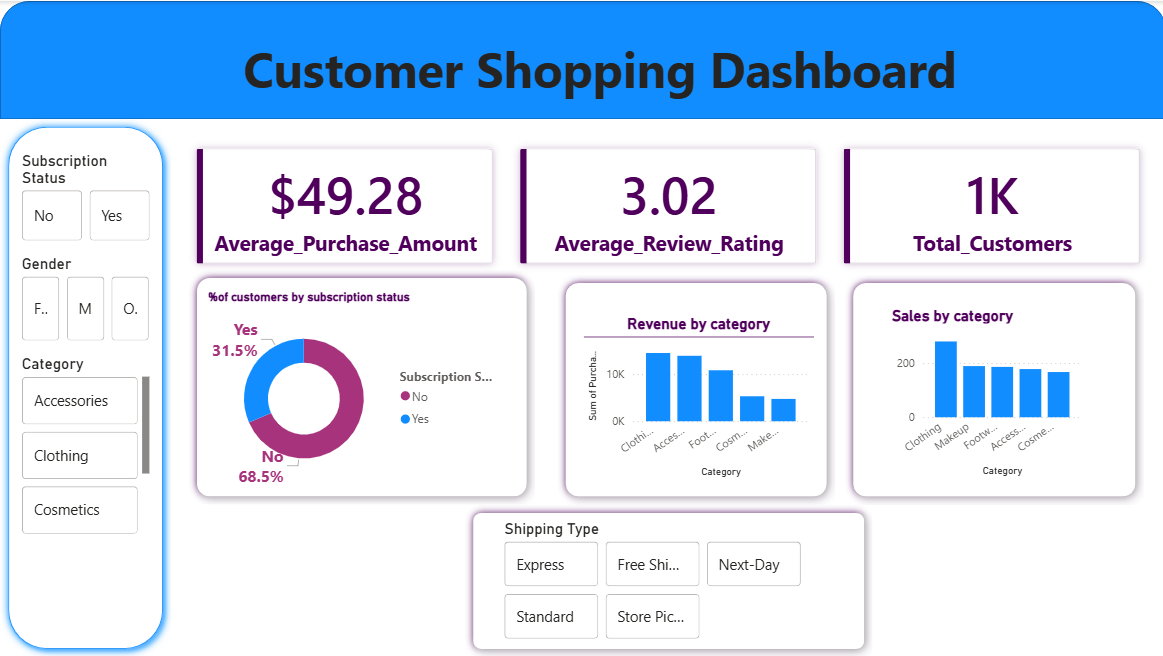

The page's visual inventory and layout, read from the dashboard file:
{"tool":"powerbi","page":{"name":"Page 1","canvas":[1280,720],"ordinal":0},"visuals":[{"type":"cardVisual","fields":{"Data":["customer_shopping_db customer_shopping.Average_Purchase_Amount","customer_shopping_db customer_shopping.Average_Review_Rating","customer_shopping_db customer_shopping.Total_Customers"]},"box":[188.6,134.1,1091.7,182.7],"z":0},{"type":"shape","box":[0,0,1280.3,129.7],"z":1000},{"type":"textbox","box":[262.2,32.4,993,119.3],"z":2000},{"type":"shape","box":[207.2,295,380.1,258],"z":3000},{"type":"donutChart","title":"%of customers by subscription status","fields":{"Category":["customer_shopping_db customer_shopping.Subscription Status"],"Y":["CountNonNull(customer_shopping_db customer_shopping.Customer ID)"]},"box":[223.7,317,325.2,225],"z":4000},{"type":"shape","box":[612,300.5,304.6,252.5],"z":5000},{"type":"shape","box":[927.6,300.5,328,252.5],"z":6000},{"type":"clusteredColumnChart","title":"Revenue by category","fields":{"Y":["Sum(customer_shopping_db customer_shopping.Purchase Amount (USD))"],"Category":["customer_shopping_db customer_shopping.Category"]},"box":[640.8,344.4,252.5,182.5],"z":7000},{"type":"clusteredColumnChart","title":"Sales by category","fields":{"Y":["CountNonNull(customer_shopping_db customer_shopping.Customer ID)"],"Category":["customer_shopping_db customer_shopping.Category"]},"box":[949.6,334.8,242.9,192.1],"z":8000},{"type":"shape","box":[0,129,188,591.4],"z":9000},{"type":"advancedSlicerVisual","fields":{"Values":["customer_shopping_db customer_shopping.Subscription Status"]},"box":[19.2,164.7,150.9,104.3],"z":10000},{"type":"advancedSlicerVisual","fields":{"Values":["customer_shopping_db customer_shopping.Gender"]},"box":[19.2,278.6,150.9,100.2],"z":11000},{"type":"advancedSlicerVisual","fields":{"Values":["customer_shopping_db customer_shopping.Category"]},"box":[19.2,388.3,150.9,201.7],"z":12000},{"type":"shape","box":[566.7,553,447.3,167.4],"z":13000},{"type":"advancedSlicerVisual","fields":{"Values":["customer_shopping_db customer_shopping.Shipping Type"]},"box":[612,568.1,337.6,135.8],"z":14000}]}

Visuals, with their boxes in screenshot pixels (x1, y1, x2, y2), scaled from the page's 1280x720 canvas onto the 1163x656 screenshot:
cardVisual - customer_shopping_db customer_shopping.Average_Purchase_Amount x customer_shopping_db customer_shopping.Average_Review_Rating: (171,122,1162,289)
shape: (0,0,1162,118)
textbox: (238,30,1140,138)
shape: (188,269,534,504)
"%of customers by subscription status" donutChart: (203,289,499,494)
shape: (556,274,833,504)
shape: (843,274,1141,504)
"Revenue by category" clusteredColumnChart: (582,314,812,480)
"Sales by category" clusteredColumnChart: (863,305,1083,480)
shape: (0,118,171,655)
advancedSlicerVisual - customer_shopping_db customer_shopping.Subscription Status: (17,150,155,245)
advancedSlicerVisual - customer_shopping_db customer_shopping.Gender: (17,254,155,345)
advancedSlicerVisual - customer_shopping_db customer_shopping.Category: (17,354,155,538)
shape: (515,504,921,655)
advancedSlicerVisual - customer_shopping_db customer_shopping.Shipping Type: (556,518,863,641)
